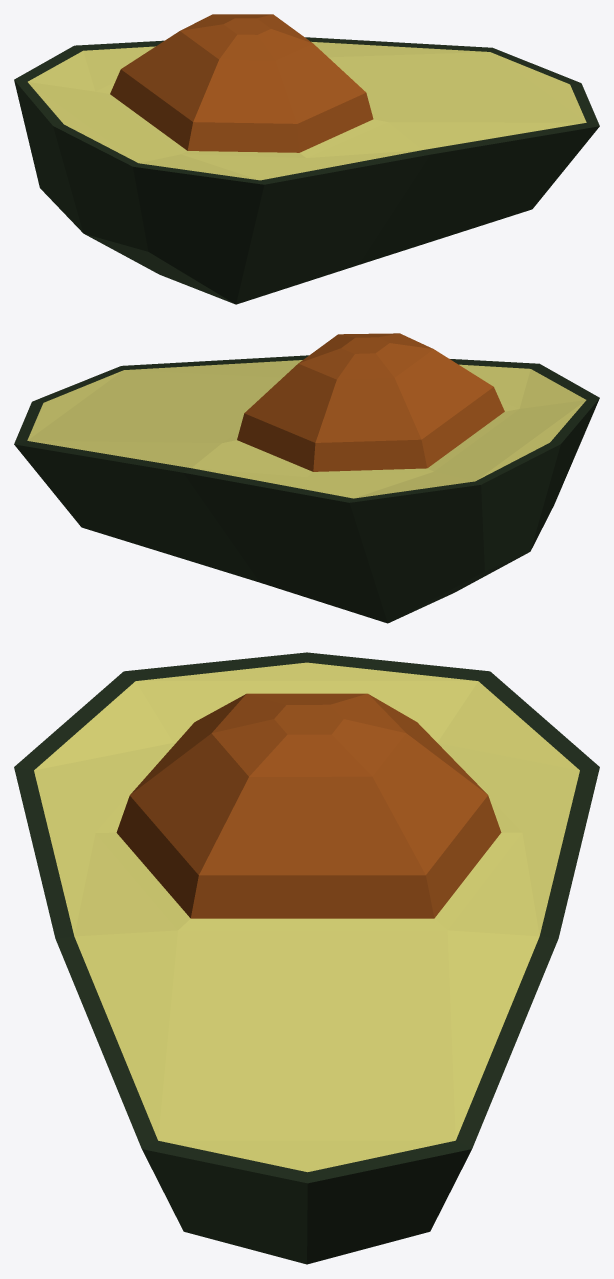
Rendered from avocadoWithSeed.fbx.
3 renders of one model, top to bottom at view 1: azimuth 30°, elevation 25°; view 2: azimuth 150°, elevation 25°; view 3: azimuth 270°, elevation 25°, orthographic. The views are drawn at different scales.
Parts seen in each view (by area): view 1: avocadoWithSeed; view 2: avocadoWithSeed; view 3: avocadoWithSeed.
Boxes of the visible parts, left/top/right/bottom form: avocadoWithSeed: left=14, top=14, right=599, bottom=304; avocadoWithSeed: left=14, top=333, right=599, bottom=623; avocadoWithSeed: left=14, top=652, right=599, bottom=1264.
Size of the model in its own units: 19.7 by 8.12 by 12.27.
1 material, 1 textured.
